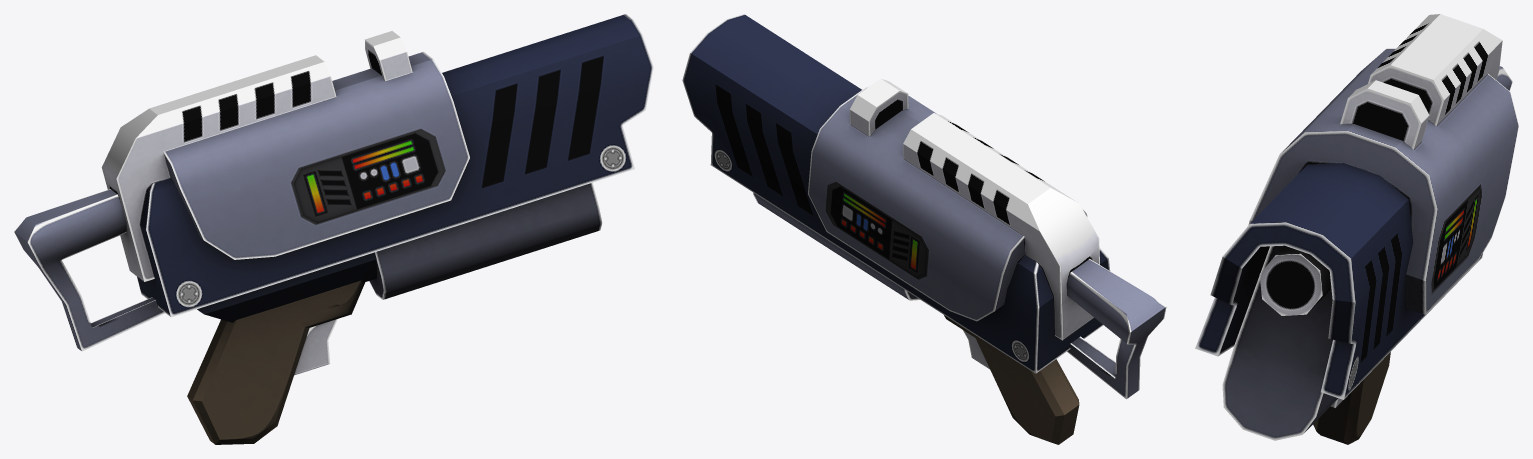
File: TR_weaponB.fbx
3 views of the same model, side by side, from view 1: azimuth 30°, elevation 25°; view 2: azimuth 150°, elevation 25°; view 3: azimuth 270°, elevation 25° (orthographic). The views are drawn at different scales.
Visible parts, largest first — view 1: TR_weaponB01; view 2: TR_weaponB01; view 3: TR_weaponB01, firespot.
Boxes of the visible parts, x1=… form: TR_weaponB01: x1=14, y1=14, x2=653, y2=444; TR_weaponB01: x1=682, y1=14, x2=1166, y2=444; TR_weaponB01: x1=1195, y1=14, x2=1518, y2=444; firespot: x1=1259, y1=246, x2=1331, y2=315.
Bounding box in the file's own units: 62.08 × 37.58 × 24.19.
